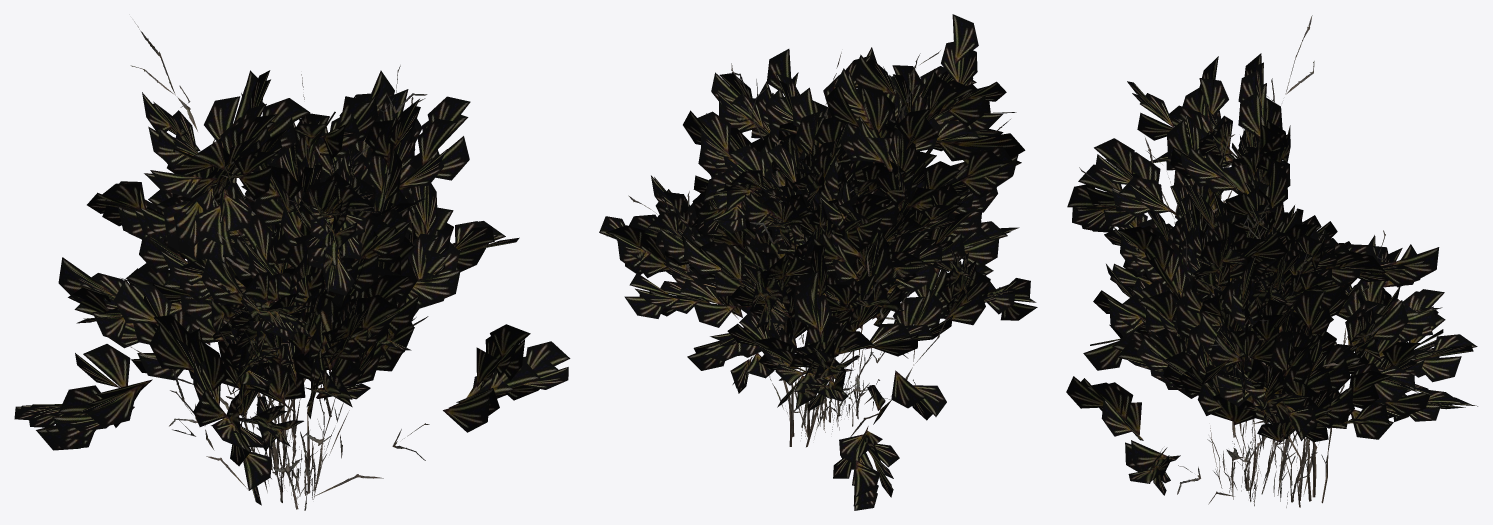
Rendered from bush.glb.
The picture shows the model from 3 angles, left to right: view 1: azimuth 30°, elevation 25°; view 2: azimuth 150°, elevation 25°; view 3: azimuth 270°, elevation 25°; orthographic projection. The views are drawn at different scales.
Visible parts, largest first — view 1: wild_rooibos_bush_b, wild_rooibos_bush_c, wild_rooibos_bush_d, wild_rooibos_bush_e; view 2: wild_rooibos_bush_b, wild_rooibos_bush_c, wild_rooibos_bush_d, wild_rooibos_bush_e; view 3: wild_rooibos_bush_b, wild_rooibos_bush_c, wild_rooibos_bush_d, wild_rooibos_bush_e.
Boxes of the visible parts, left/top/right/bottom form: wild_rooibos_bush_b: left=14, top=21, right=570, bottom=505; wild_rooibos_bush_c: left=76, top=125, right=453, bottom=502; wild_rooibos_bush_d: left=180, top=70, right=460, bottom=510; wild_rooibos_bush_e: left=204, top=290, right=305, bottom=477; wild_rooibos_bush_b: left=607, top=14, right=1037, bottom=510; wild_rooibos_bush_c: left=599, top=50, right=1021, bottom=436; wild_rooibos_bush_d: left=683, top=76, right=993, bottom=430; wild_rooibos_bush_e: left=712, top=230, right=929, bottom=447; wild_rooibos_bush_b: left=1066, top=15, right=1477, bottom=504; wild_rooibos_bush_c: left=1067, top=114, right=1477, bottom=507; wild_rooibos_bush_d: left=1106, top=178, right=1439, bottom=506; wild_rooibos_bush_e: left=1201, top=294, right=1339, bottom=507.
Bounding box in the file's own units: 0.5243 × 0.5432 × 0.4747.
3 materials, 3 textured.
